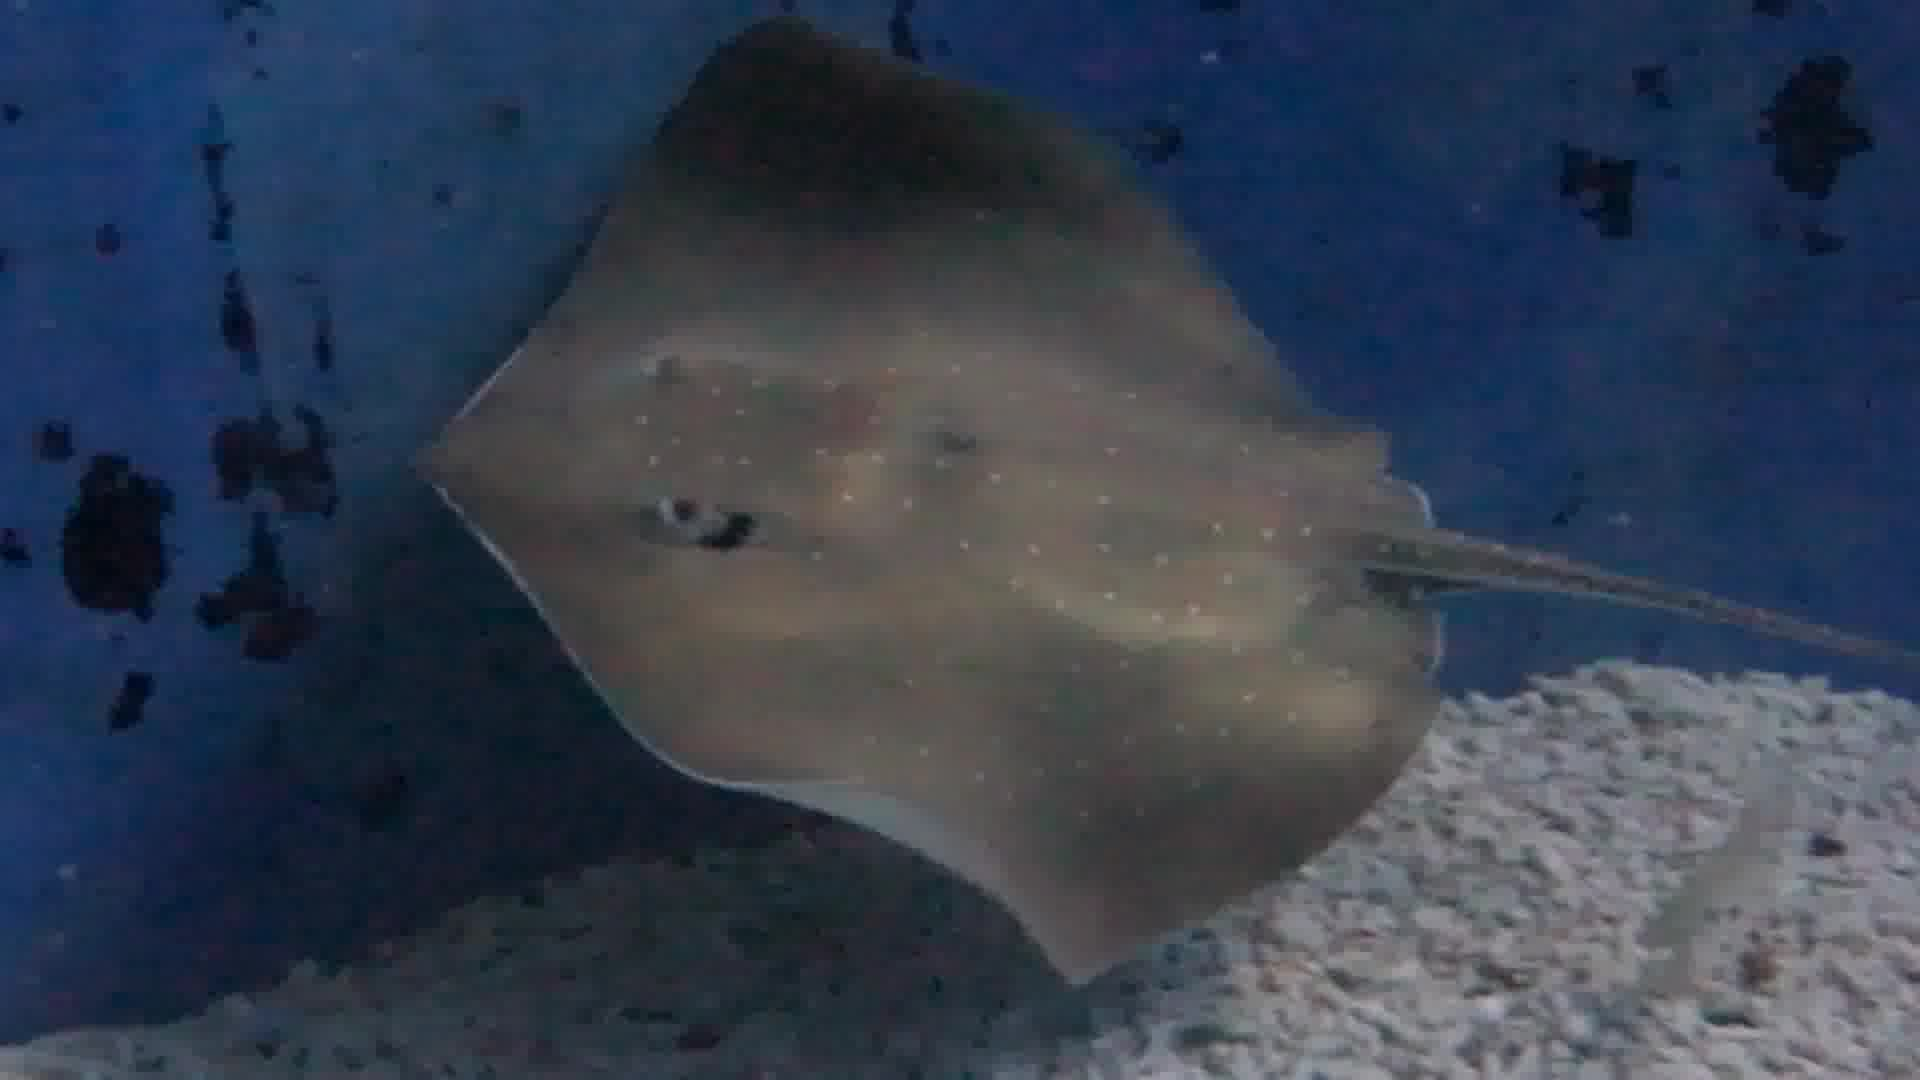Himantura gerrardi: (349, 29, 1919, 980)
